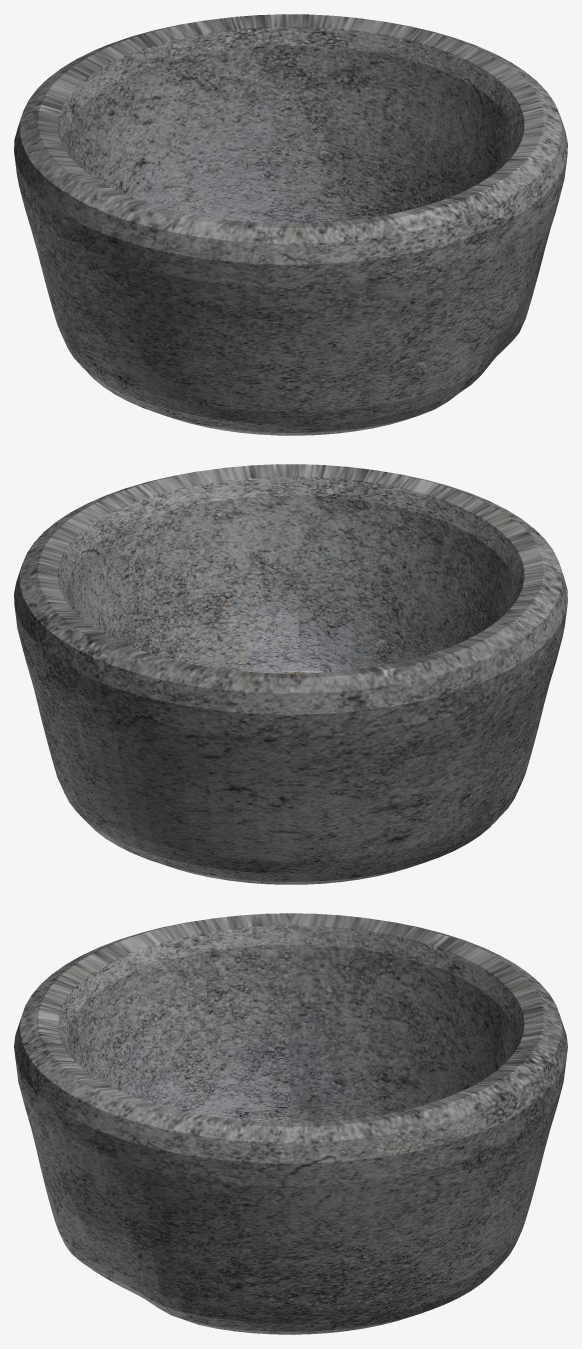
The model's file is mortier.fbx.
3 views of the same model, one above another, from view 1: azimuth 30°, elevation 25°; view 2: azimuth 150°, elevation 25°; view 3: azimuth 270°, elevation 25° (orthographic).
Visible parts, largest first — view 1: Sphere; view 2: Sphere; view 3: Sphere.
Boxes of the visible parts, x1,y1,x2,y2 form: Sphere: (14, 14, 567, 435); Sphere: (14, 464, 567, 884); Sphere: (14, 913, 567, 1334).
Bounding box in the file's own units: 196 × 104 × 196.
Materials: 1 (1 with a texture image).
